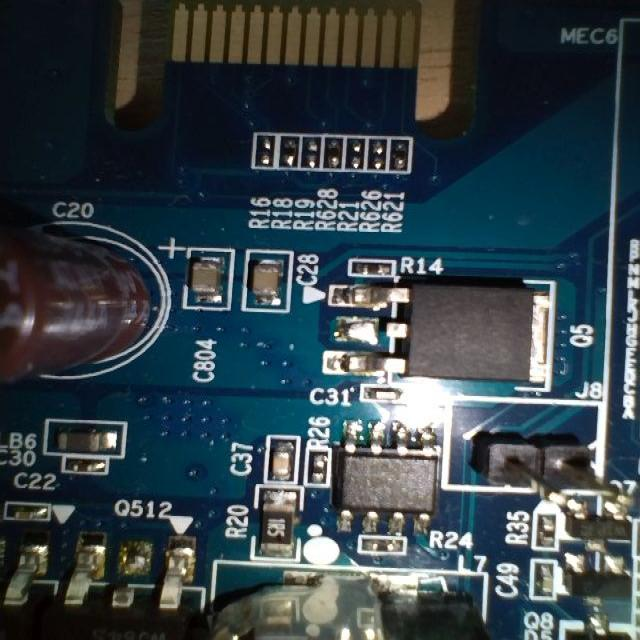capacitor: (184, 243, 233, 314), (240, 248, 295, 306), (264, 428, 298, 494), (358, 528, 412, 563), (360, 381, 423, 408), (5, 498, 58, 529), (59, 451, 114, 479), (534, 554, 558, 608)
resistor: (254, 483, 302, 562), (304, 442, 332, 497), (350, 254, 398, 282), (534, 502, 556, 558), (321, 131, 347, 175), (388, 132, 414, 175), (302, 130, 324, 180), (350, 127, 369, 184), (366, 134, 392, 175), (278, 133, 302, 174), (253, 129, 272, 169)
